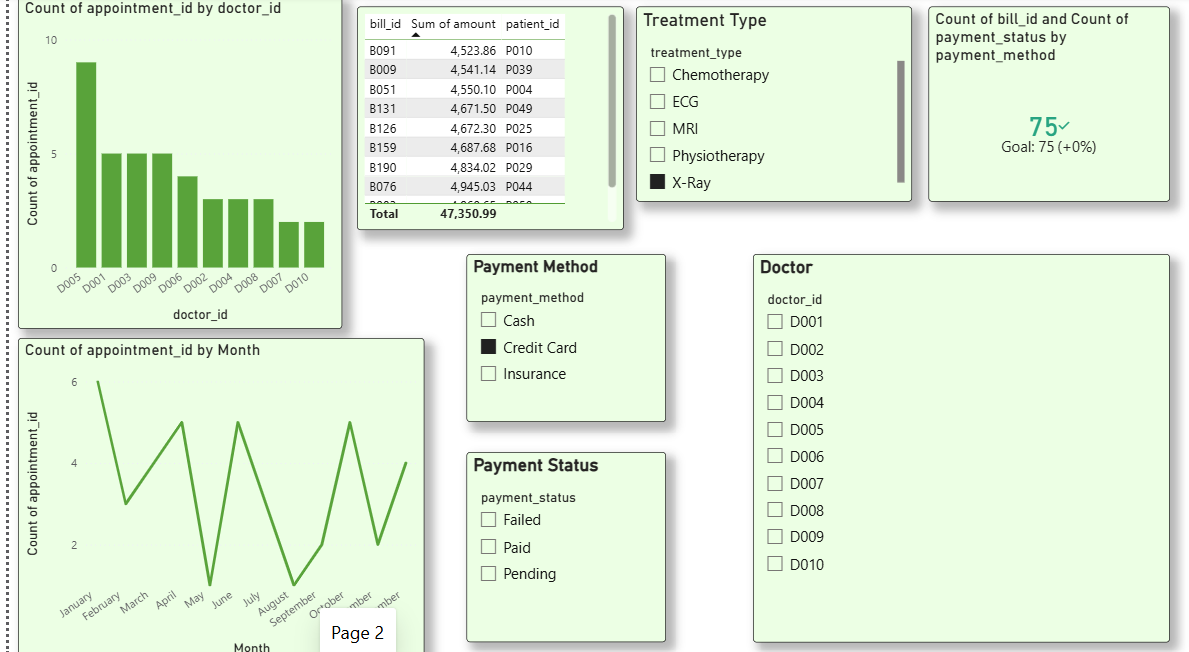

The page's visual inventory and layout, read from the dashboard file:
{"tool":"powerbi","page":{"name":"Page 2","canvas":[1280,720],"ordinal":1},"visuals":[{"type":"lineClusteredColumnComboChart","fields":{"Category":["appointments.doctor_id"],"Y":["CountNonNull(appointments.appointment_id)"]},"box":[9.7,0,349.8,359.5],"z":0},{"type":"lineChart","fields":{"Category":["appointments.appointment_date.Variation.Date Hierarchy.Month"],"Y":["CountNonNull(appointments.appointment_id)"]},"box":[9.7,369.2,438.8,351.4],"z":1000},{"type":"tableEx","fields":{"Values":["billing.bill_id","Sum(billing.amount)","billing.patient_id"]},"box":[375.7,11.3,288.2,241.3],"z":2000},{"type":"slicer","title":"Payment Method","fields":{"Values":["billing.payment_method"]},"box":[493.9,278.5,215.4,181.4],"z":3000},{"type":"slicer","title":"Payment Status","fields":{"Values":["billing.payment_status"]},"box":[493.9,492.2,215.4,205.6],"z":4000},{"type":"slicer","title":"Treatment Type","fields":{"Values":["treatments.treatment_type"]},"box":[676.8,11.3,297.9,210.5],"z":5000},{"type":"slicer","title":"Doctor","fields":{"Values":["appointments.doctor_id"]},"box":[803.1,278.5,450.1,419.4],"z":6000},{"type":"kpi","fields":{"Indicator":["CountNonNull(billing.bill_id)"],"TrendLine":["billing.payment_method"],"Goal":["CountNonNull(billing.payment_status)"]},"box":[992.6,11.3,260.7,210.5],"z":7000}]}

Visuals, with their boxes in screenshot pixels (x1, y1, x2, y2), scaled from the page's 1280x720 canvas onto the 1189x652 screenshot:
lineClusteredColumnComboChart - appointments.doctor_id x CountNonNull(appointments.appointment_id): detection(9, 0, 334, 326)
lineChart - appointments.appointment_date.Variation.Date Hierarchy.Month x CountNonNull(appointments.appointment_id): detection(9, 334, 417, 651)
tableEx - billing.bill_id x Sum(billing.amount): detection(349, 10, 617, 229)
"Payment Method" slicer: detection(459, 252, 659, 416)
"Payment Status" slicer: detection(459, 446, 659, 632)
"Treatment Type" slicer: detection(629, 10, 905, 201)
"Doctor" slicer: detection(746, 252, 1164, 632)
kpi - CountNonNull(billing.bill_id) x billing.payment_method: detection(922, 10, 1164, 201)
